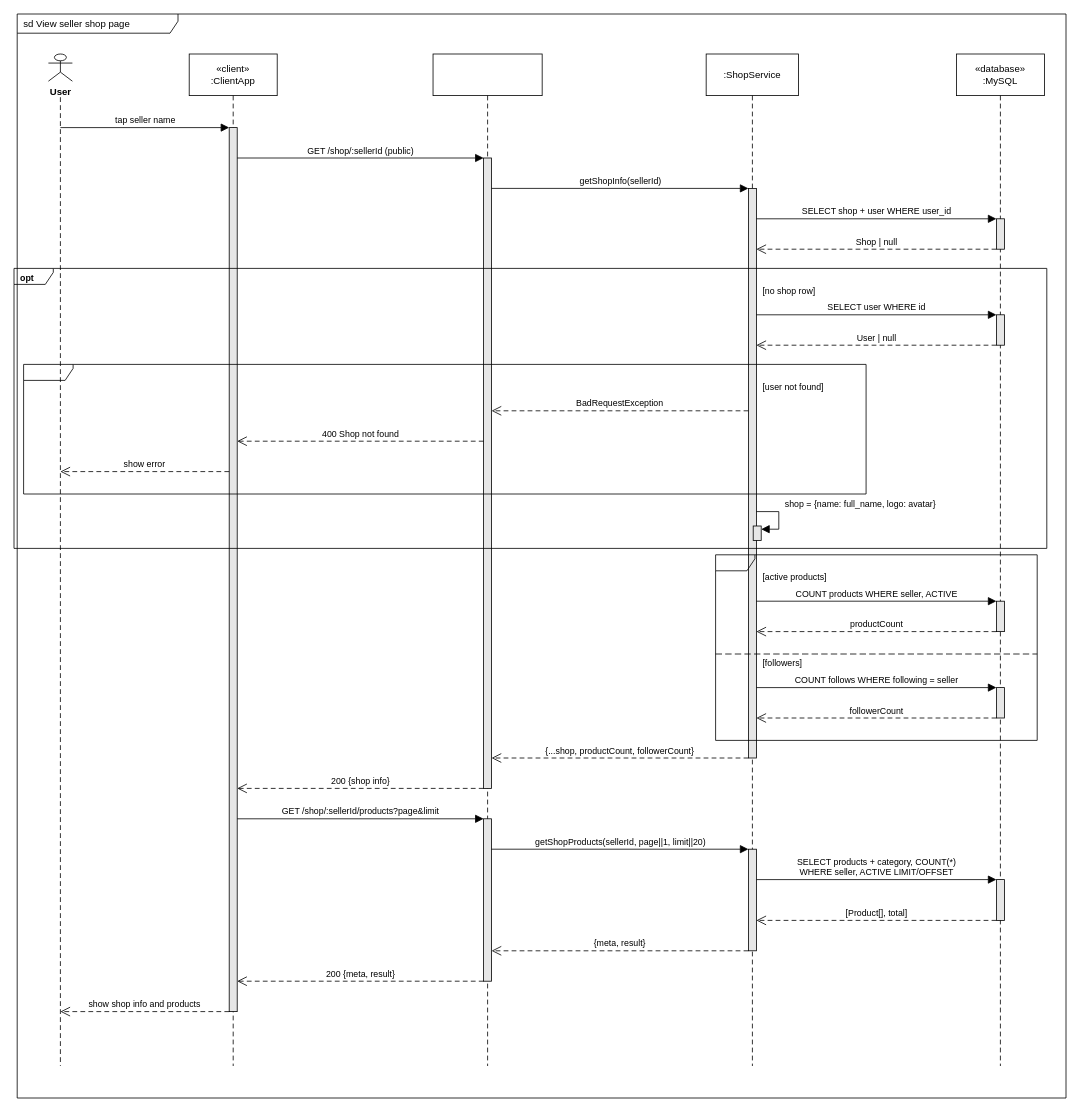
The diagram is 1080 pixels wide and 1112 high, and some of its shapes have lost their labels. The box of each missing label's shape, as (x1, y1, x2, y2) in pixels:
:ShopController: (432, 53, 542, 96)
break: (23, 364, 866, 494)
par: (715, 554, 1037, 740)
